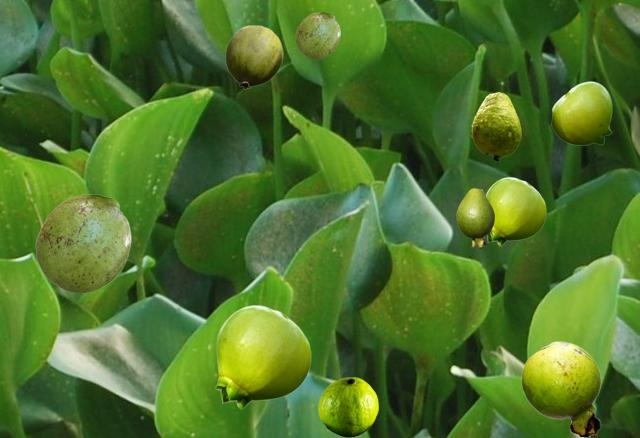guava: (215, 305, 310, 408), (35, 194, 130, 292), (521, 341, 600, 435), (486, 177, 545, 245), (551, 81, 611, 144), (225, 25, 282, 88), (318, 377, 377, 436), (471, 92, 520, 160), (456, 188, 493, 247), (295, 12, 339, 58)
